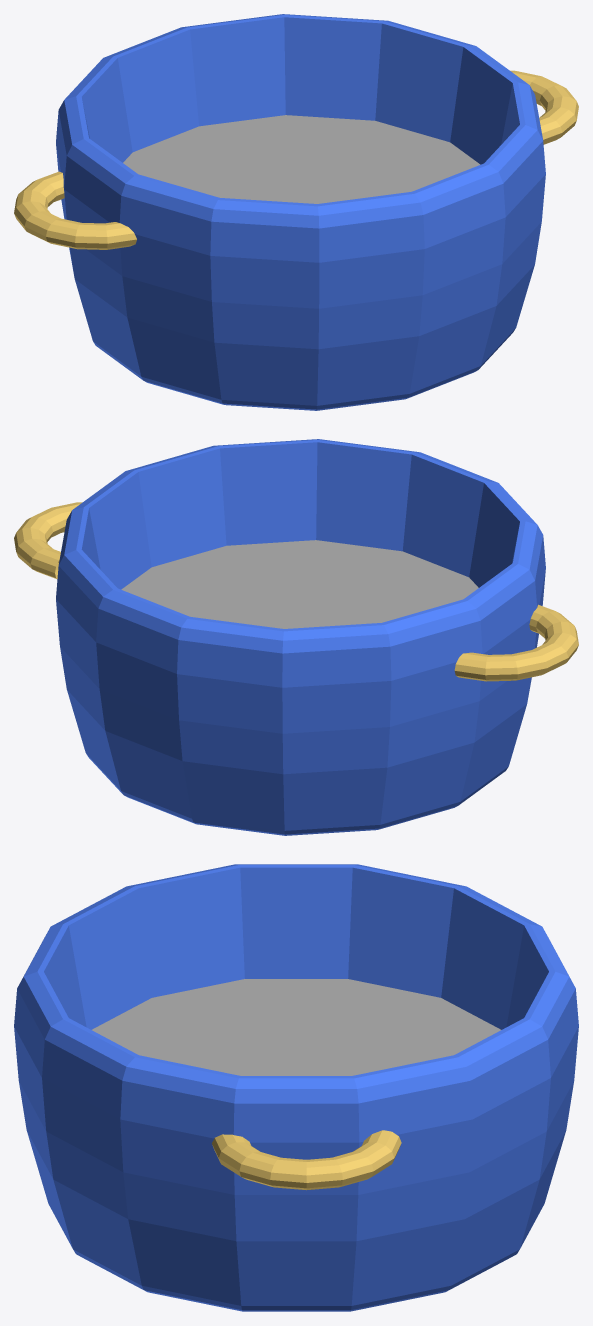
Rendered from Pot_19.fbx.
The picture shows the model from 3 angles, top to bottom: view 1: azimuth 30°, elevation 25°; view 2: azimuth 150°, elevation 25°; view 3: azimuth 270°, elevation 25°; orthographic projection. The views are drawn at different scales.
Visible parts, largest first — view 1: Pot_19; view 2: Pot_19; view 3: Pot_19.
Boxes of the visible parts, <box> form: Pot_19: <box>14,14,578,410</box>; Pot_19: <box>14,439,578,835</box>; Pot_19: <box>14,864,578,1311</box>.
Size of the model in its own units: 0.2508 by 0.094 by 0.1979.
